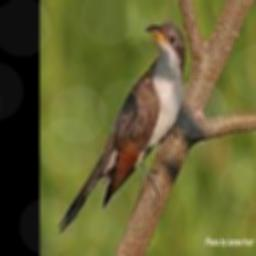Cuckoo: (57, 23, 186, 233)
